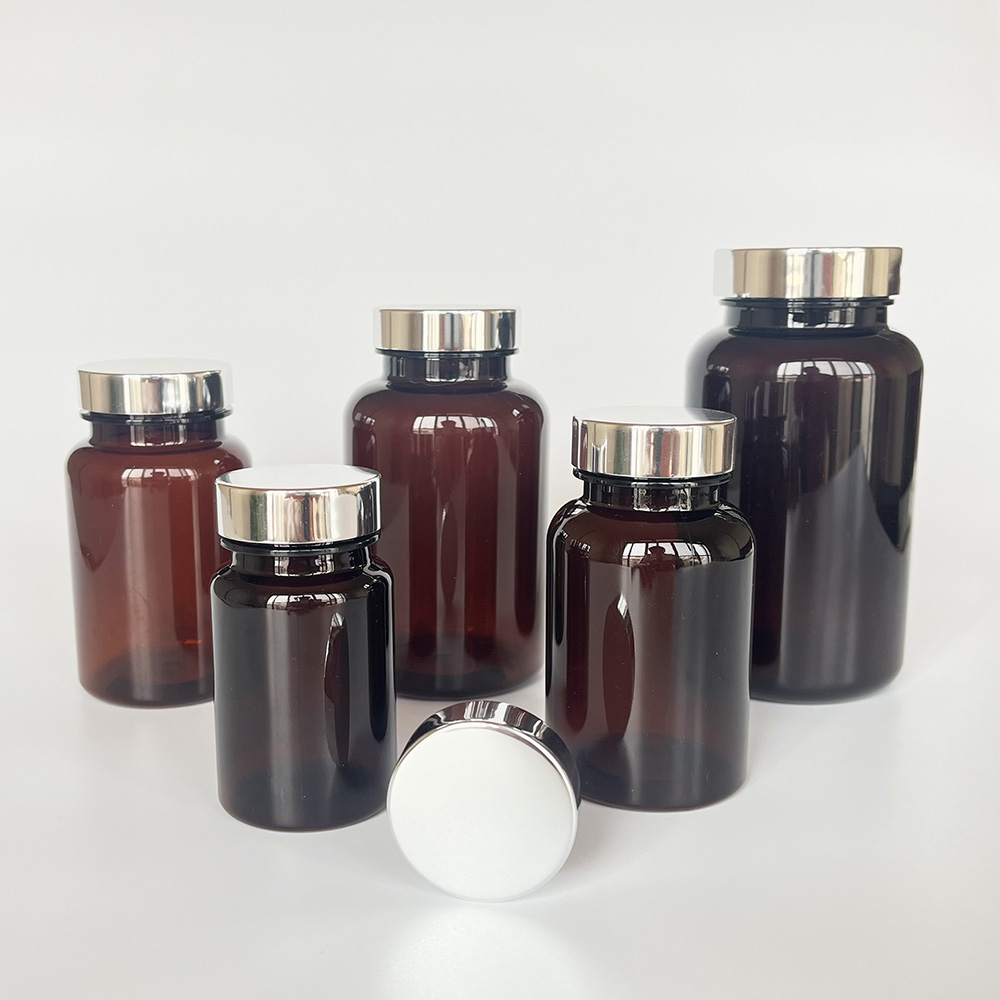medicinejar: (666, 238, 937, 703), (544, 398, 762, 810), (356, 293, 547, 710), (197, 458, 397, 833), (59, 345, 251, 713)
